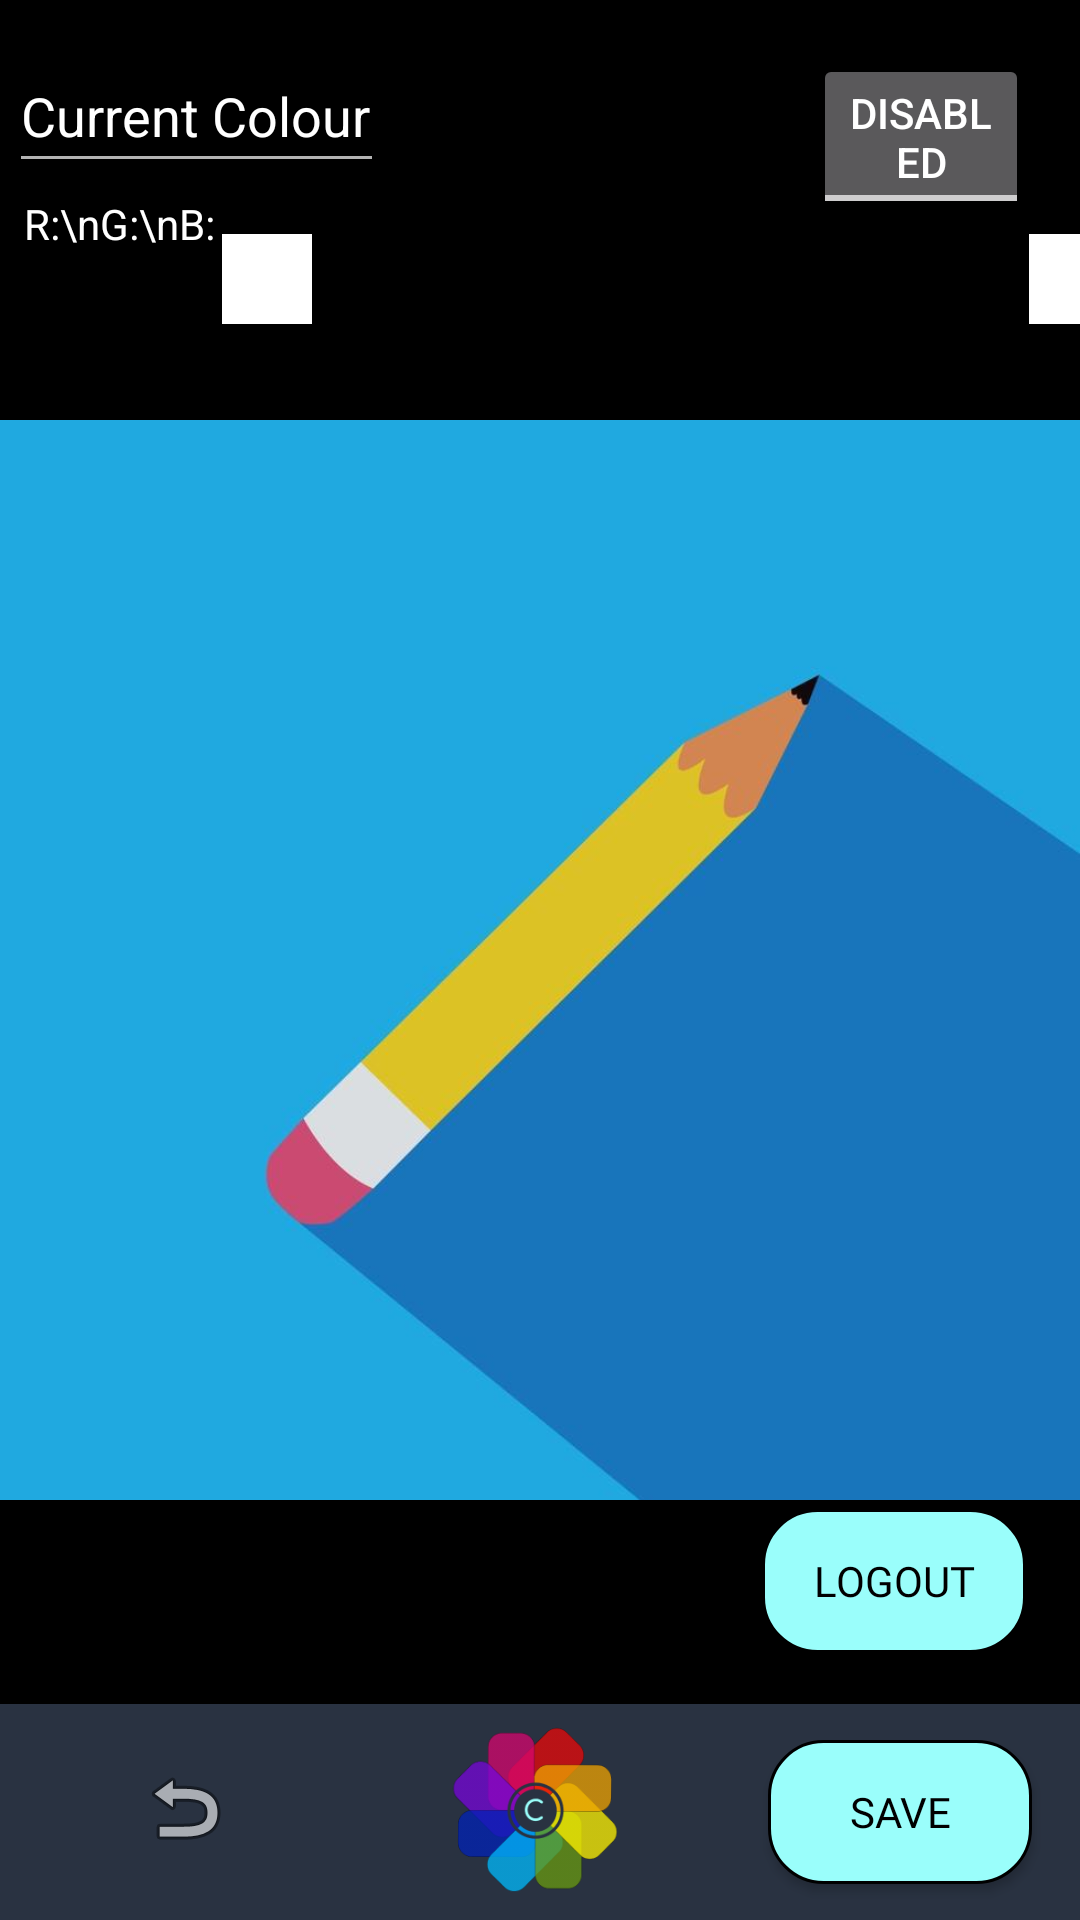

Where to tap for icons on this 1080x1920 app screen, as point (x, y):
revert: point (186, 1808)
